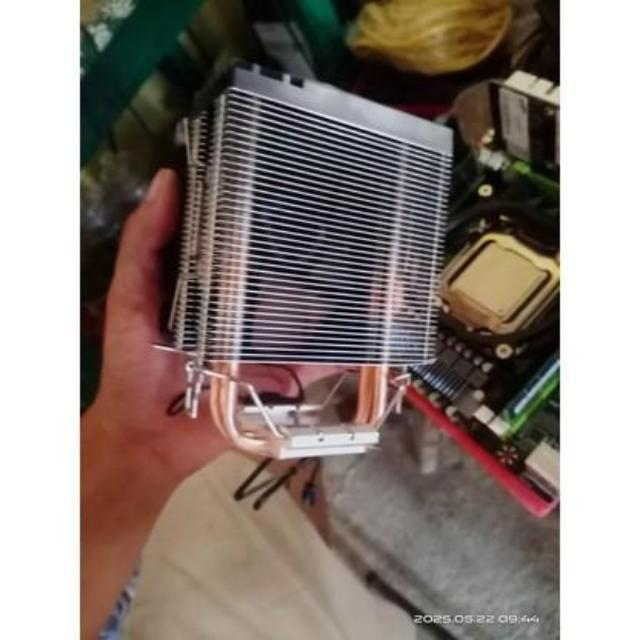CPU_Fan: (156, 51, 448, 466)
